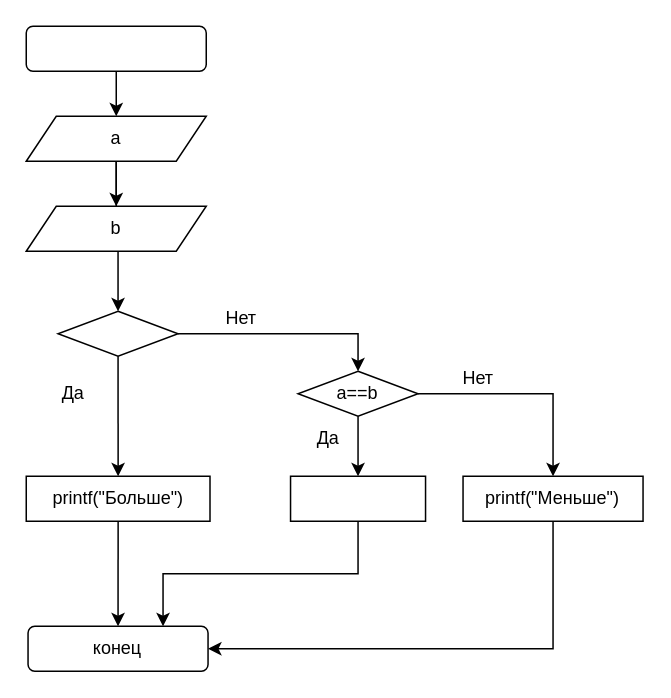
The diagram is 671 pixels wide and 698 high, and some of its shapes have lost their labels. Each missing label, with the box of its shape:
a>b: (57, 310, 178, 356)
printf("Равны"): (289, 475, 426, 521)
начало: (25, 25, 206, 71)
